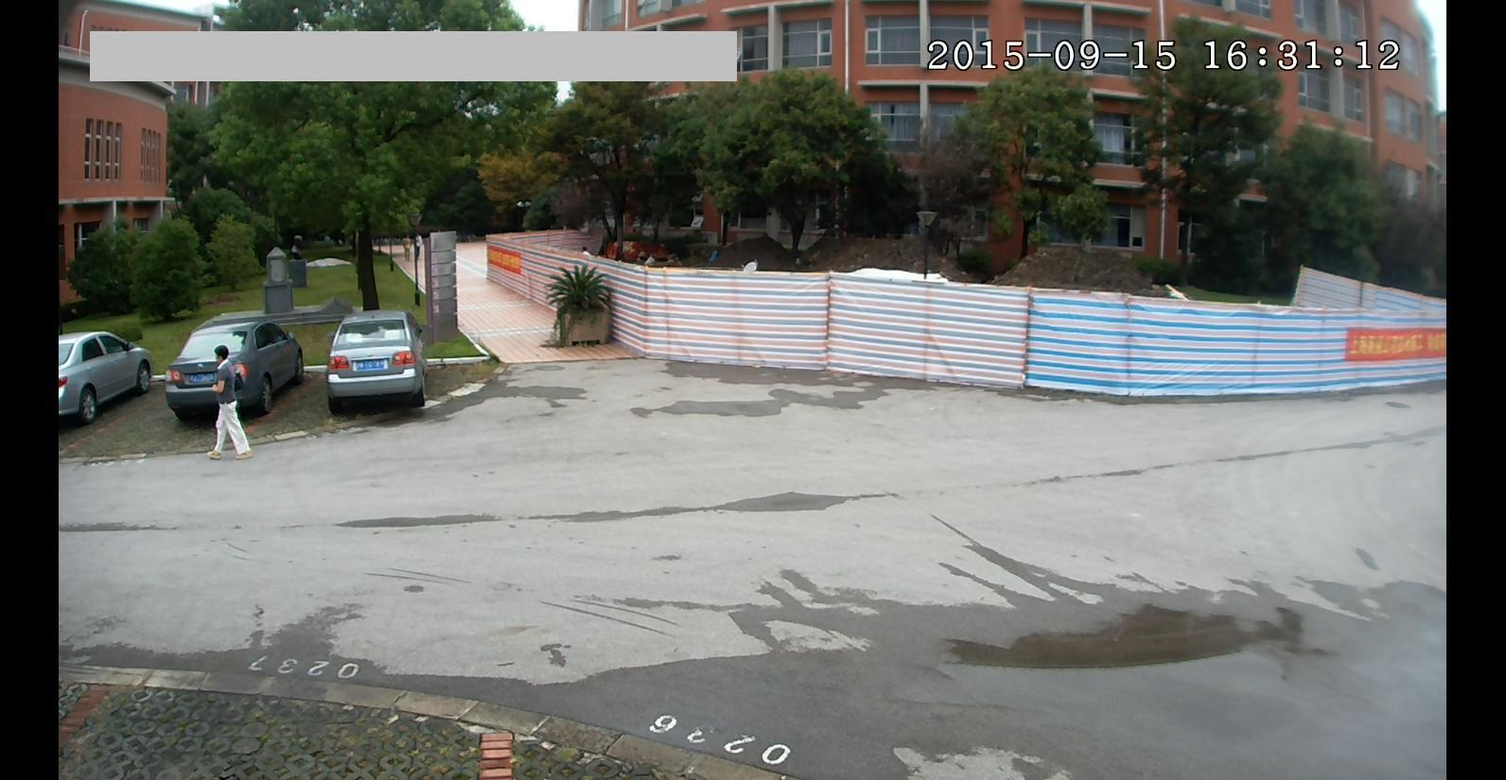person: (202, 340, 256, 462)
